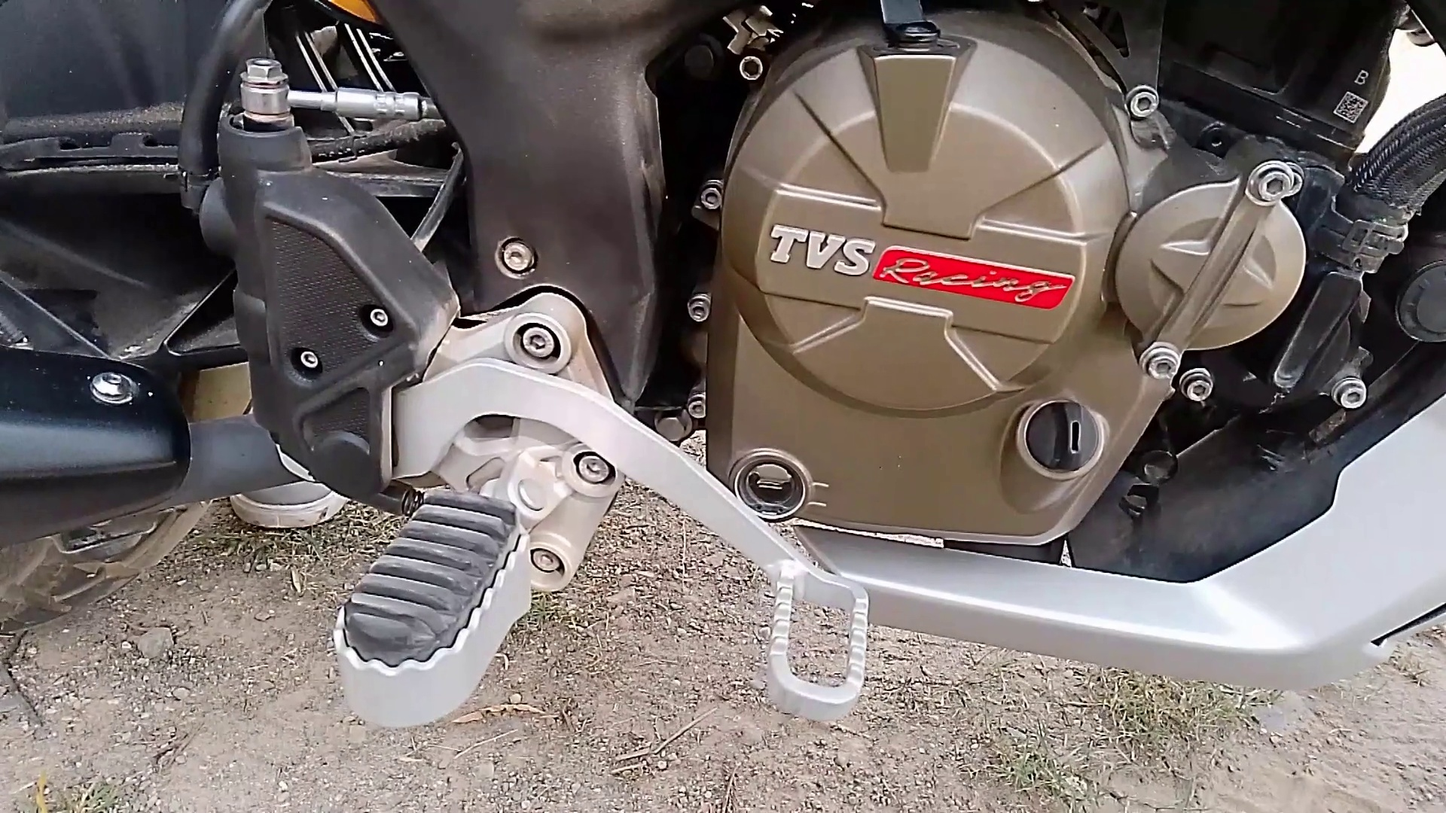bike-engine: (701, 15, 1307, 554)
bike-engine-level: (718, 444, 819, 525)
bike-oil-cap: (1008, 392, 1109, 481)
